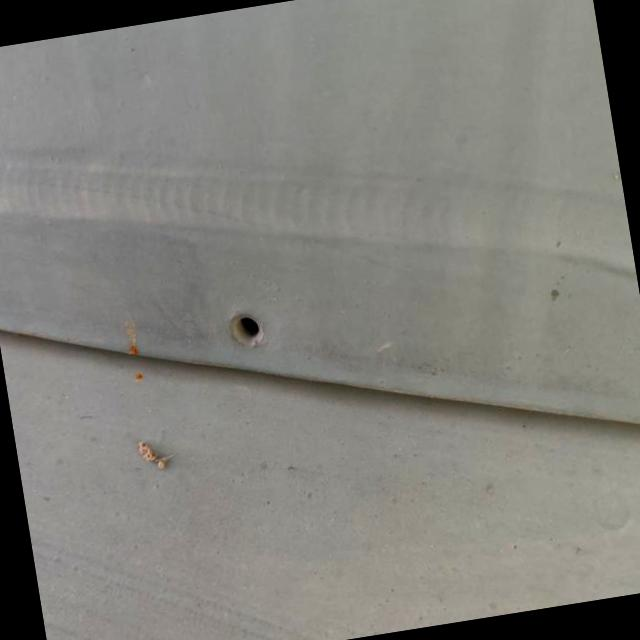Missing Fastener: (218, 301, 279, 358)
